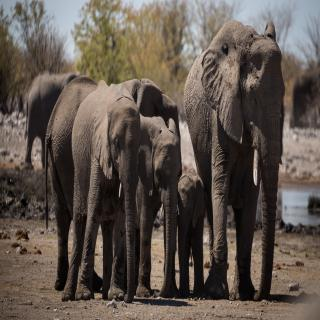Elephant: (184, 17, 292, 307), (61, 73, 144, 307), (131, 104, 183, 308), (174, 170, 213, 306)
